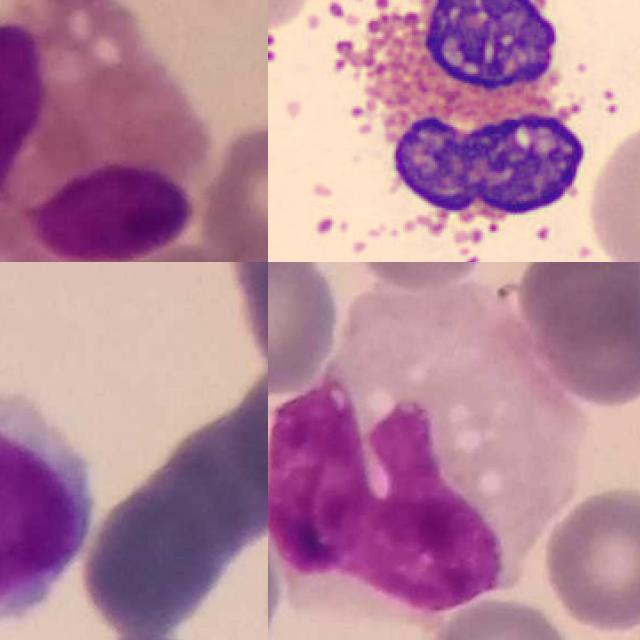Eosinophil: (314, 0, 598, 255), (0, 0, 207, 262)
Lymphocyte: (0, 390, 92, 627)
Monocyte: (268, 282, 584, 616)
RBC: (581, 114, 640, 262)
